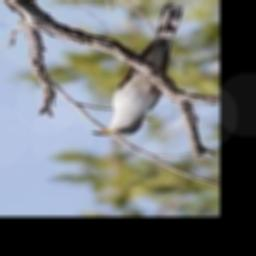Cuckoo: (91, 3, 183, 135)
